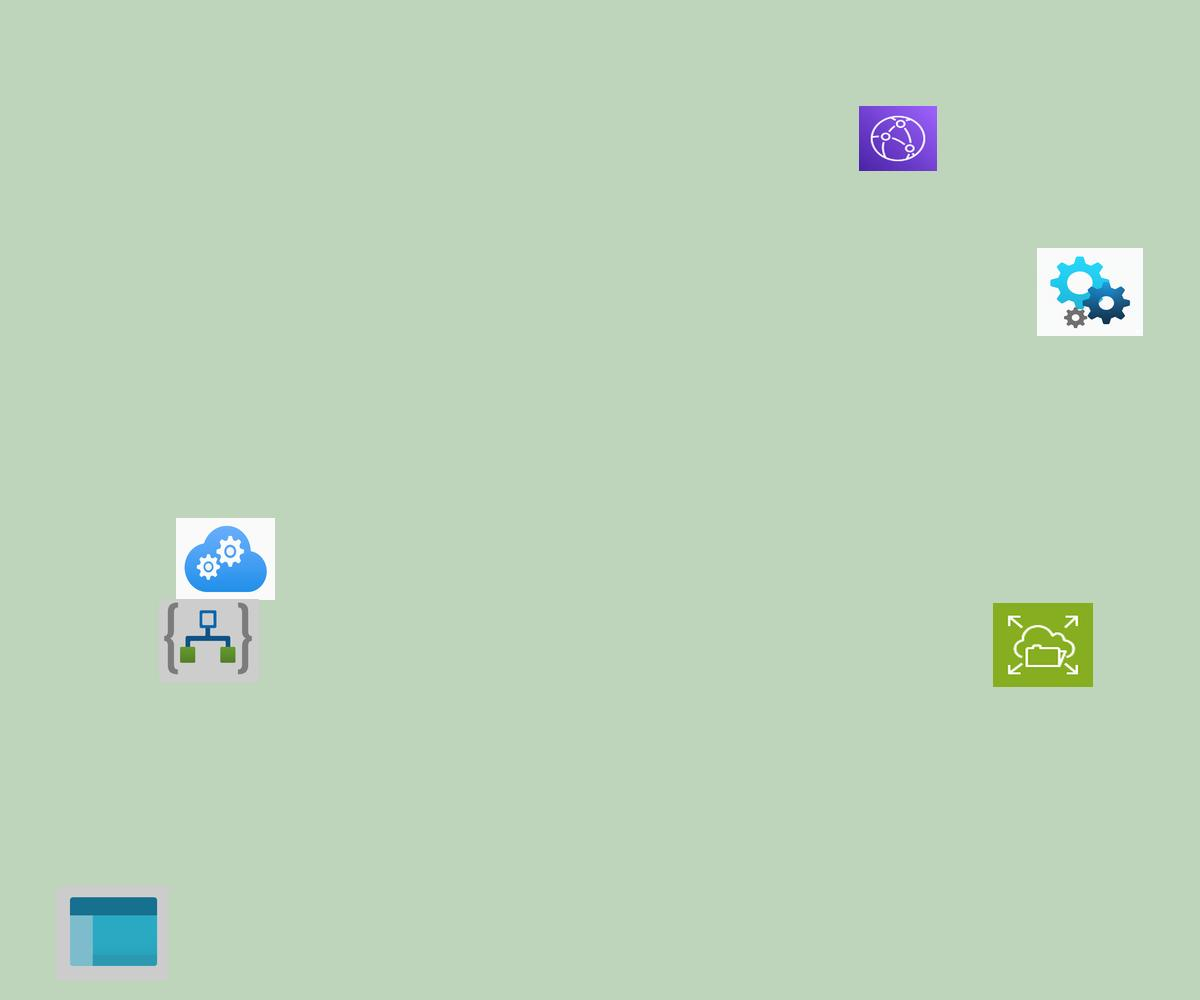AWS-CloudFront: (859, 106, 937, 171)
AWS-EFS: (993, 603, 1093, 687)
Azure_api: (1037, 248, 1143, 336)
Azure_cloud_services: (176, 518, 275, 600)
Azure_integration-204-Logic-Apps: (159, 599, 259, 682)
Azure_management-portal: (56, 886, 169, 980)
